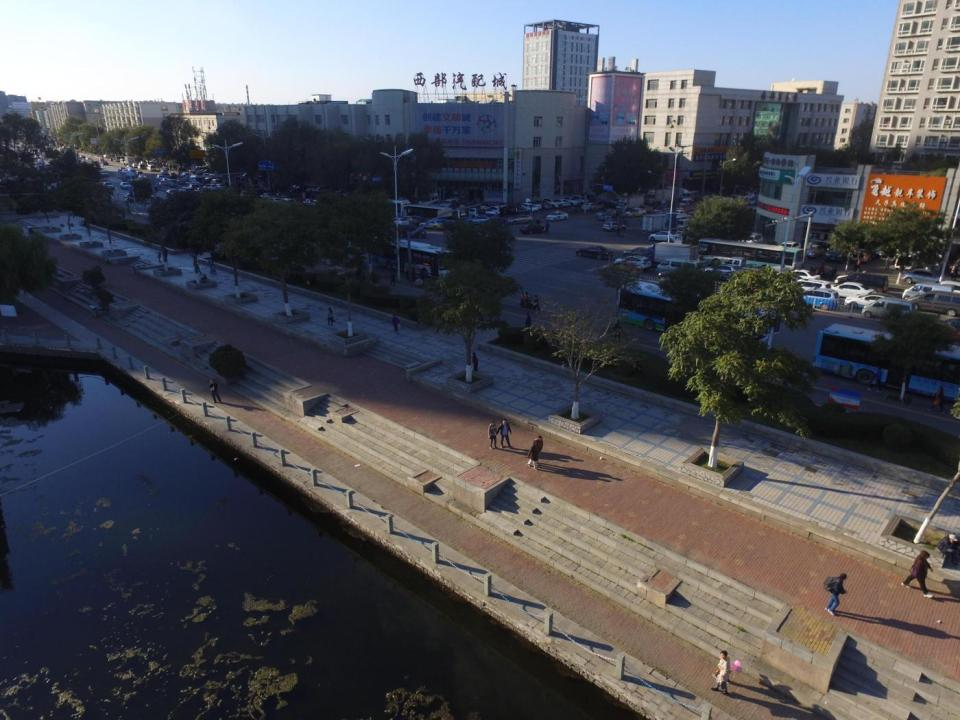bus: (811, 322, 960, 401), (616, 278, 778, 350), (367, 234, 457, 279), (698, 238, 803, 276)
car: (845, 293, 902, 315), (834, 273, 884, 295), (655, 267, 700, 289), (797, 287, 838, 310), (830, 283, 875, 303), (900, 269, 946, 287), (782, 268, 821, 285), (796, 278, 833, 295), (738, 230, 764, 254), (604, 262, 643, 278), (752, 238, 778, 260), (576, 245, 614, 260), (614, 255, 651, 269), (623, 246, 655, 262), (825, 245, 849, 264), (895, 252, 917, 272), (777, 240, 801, 258), (850, 246, 872, 263), (804, 243, 825, 259), (602, 219, 627, 232), (519, 222, 545, 234), (596, 211, 620, 223), (595, 207, 617, 220), (398, 215, 420, 228), (507, 214, 535, 224), (442, 198, 460, 213), (419, 220, 445, 230), (545, 210, 568, 221), (388, 217, 411, 228), (481, 218, 506, 228), (468, 215, 492, 225), (544, 196, 562, 209), (534, 197, 552, 210), (524, 198, 542, 211), (146, 194, 166, 205), (624, 209, 646, 218), (582, 202, 601, 212), (522, 202, 537, 214), (564, 196, 580, 207), (429, 199, 442, 212), (269, 197, 284, 208), (573, 194, 589, 204), (583, 202, 599, 212), (280, 195, 296, 205), (124, 194, 140, 204), (165, 188, 179, 199), (310, 200, 325, 210), (260, 193, 276, 202), (558, 198, 571, 209), (302, 198, 315, 208), (213, 182, 226, 192), (102, 182, 115, 191), (97, 178, 110, 187), (180, 187, 194, 195), (120, 181, 132, 190), (95, 171, 110, 178), (204, 184, 218, 190), (137, 174, 148, 181), (136, 163, 147, 170), (136, 170, 146, 177), (154, 173, 164, 180), (159, 168, 169, 175), (117, 167, 128, 173), (128, 166, 136, 172), (98, 158, 106, 164), (84, 156, 92, 162), (78, 154, 86, 160), (102, 160, 109, 166), (132, 163, 139, 168)
truck: (388, 196, 471, 233), (720, 258, 777, 282), (643, 243, 700, 266), (704, 265, 750, 286), (641, 214, 676, 232), (614, 194, 648, 210), (661, 184, 692, 201), (645, 190, 674, 207), (647, 231, 677, 243), (118, 171, 136, 182)
van: (906, 290, 960, 317), (902, 283, 954, 307), (835, 273, 889, 296), (656, 257, 706, 280), (862, 299, 913, 320), (398, 224, 427, 240), (418, 192, 440, 210), (313, 185, 334, 198), (306, 185, 328, 195), (689, 190, 702, 200), (583, 193, 596, 203), (147, 165, 156, 172)
